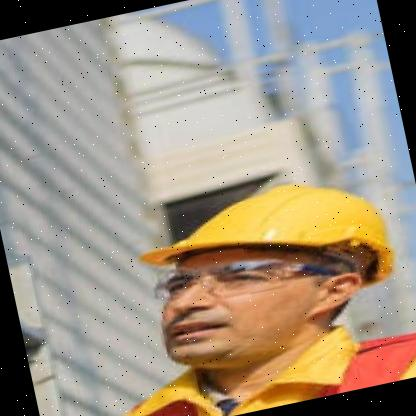capacete: (176, 169, 376, 266)
oculos: (140, 242, 294, 319)
